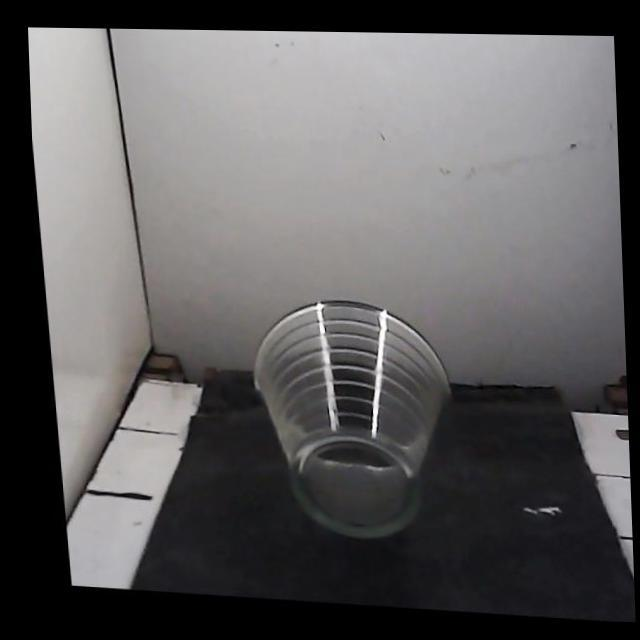vidro: (255, 301, 450, 537)
